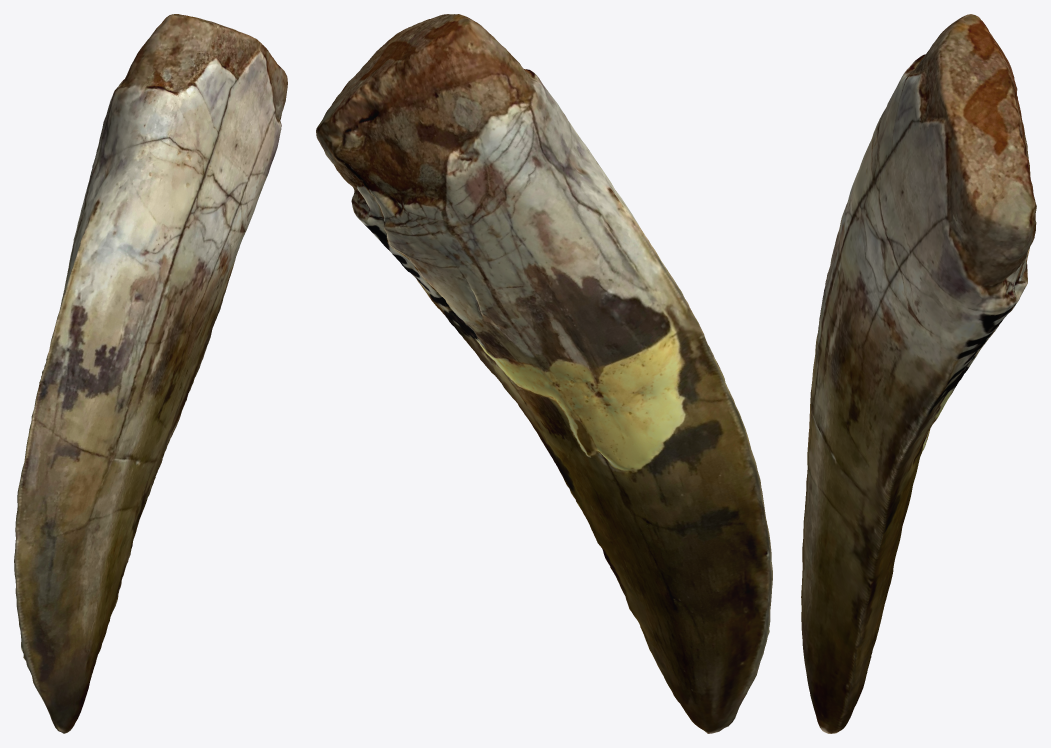
File: 2-2_Theropod_Dinosaur_Tooth_3DModel.glb
3 renders of one model, left to right at view 1: azimuth 30°, elevation 25°; view 2: azimuth 150°, elevation 25°; view 3: azimuth 270°, elevation 25°, orthographic. The views are drawn at different scales.
Parts seen in each view (by area): view 1: 3DModel; view 2: 3DModel; view 3: 3DModel.
Boxes of the visible parts, x1,y1,x2,y2 form: 3DModel: (14,14,287,733); 3DModel: (316,14,772,733); 3DModel: (801,14,1036,733).
Bounding box in the file's own units: 0.2655 × 0.4853 × 0.1263.
Materials: 1 (1 with a texture image).
